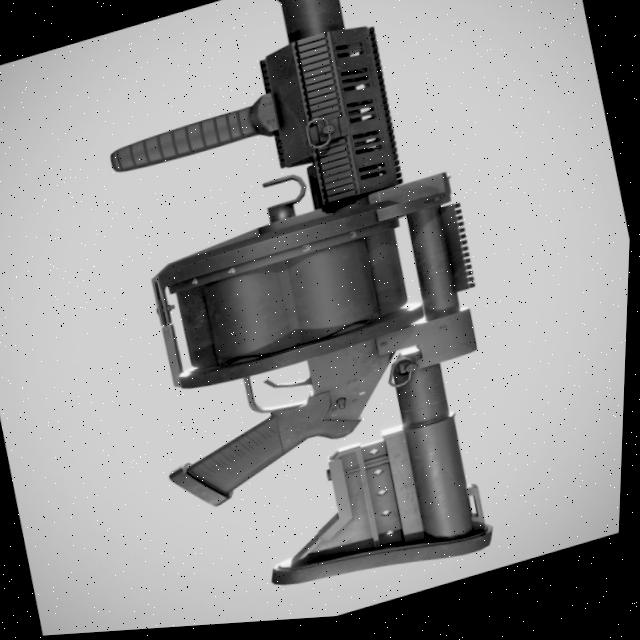rocket: (62, 0, 549, 636)
